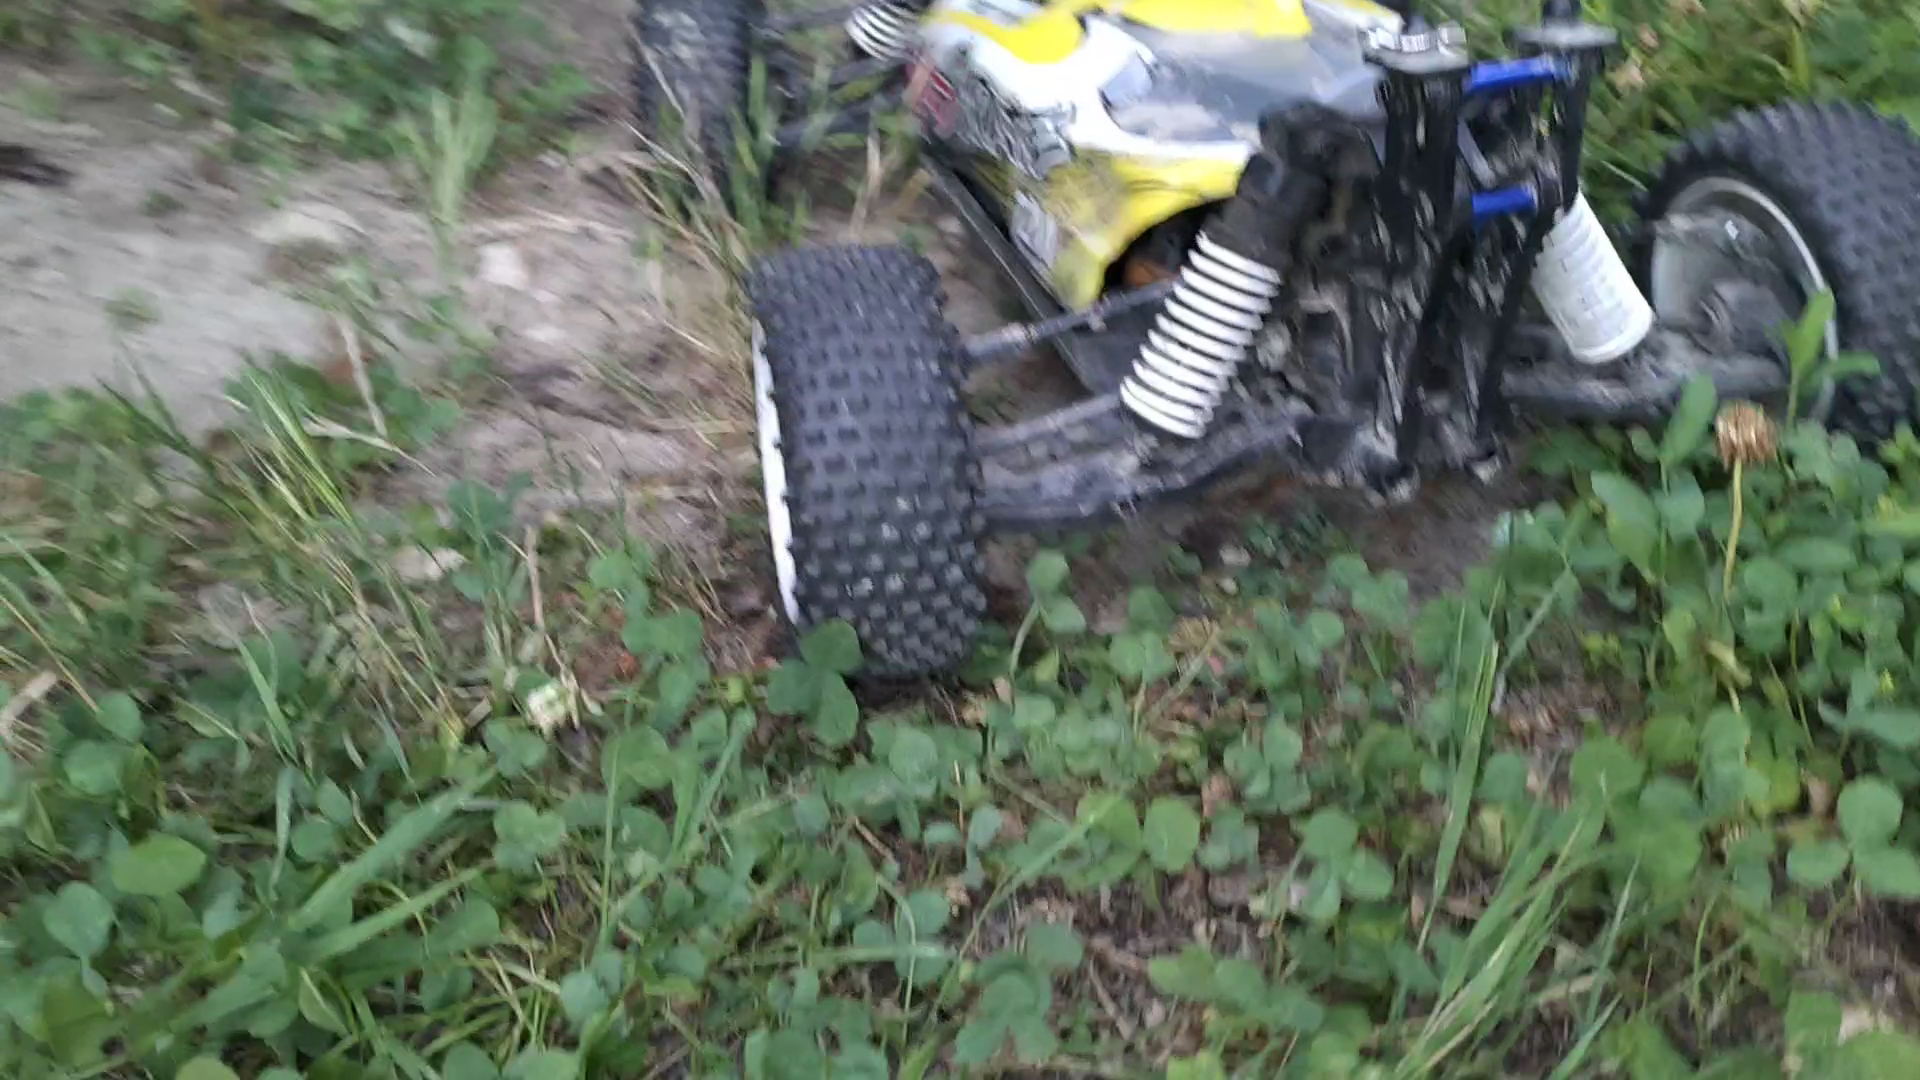buggy: (626, 5, 1920, 676)
